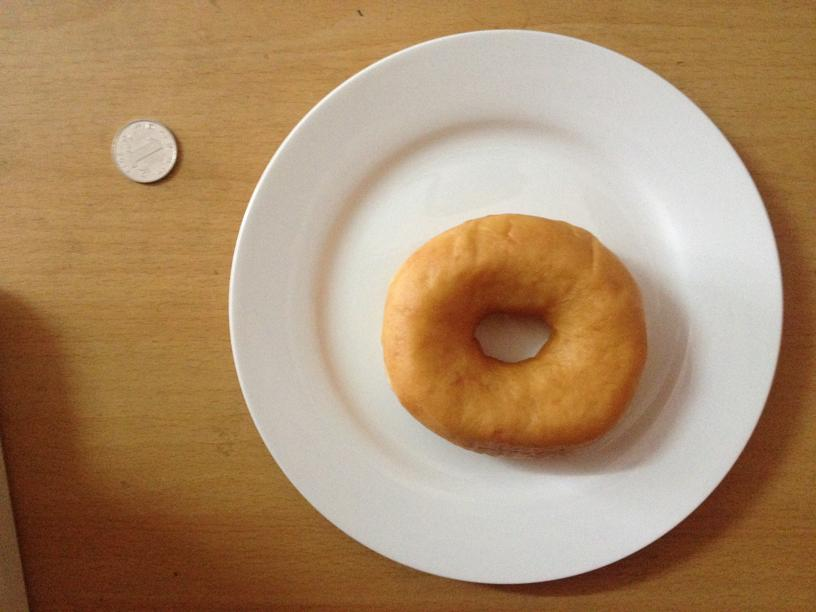coin: (112, 120, 178, 184)
doughnut: (382, 215, 647, 453)
